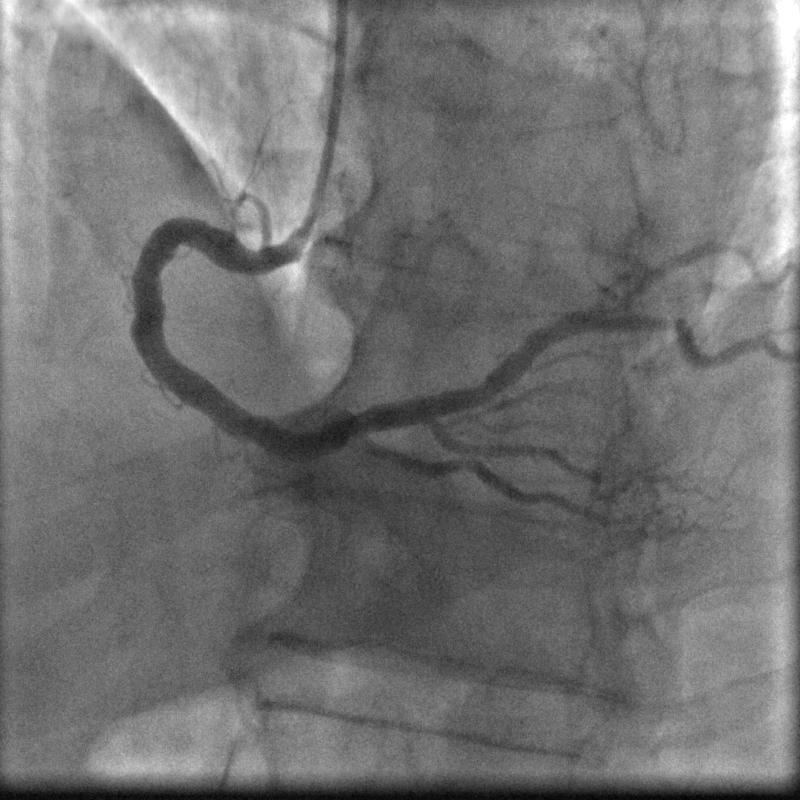Stenosis: (648, 307, 689, 336)
